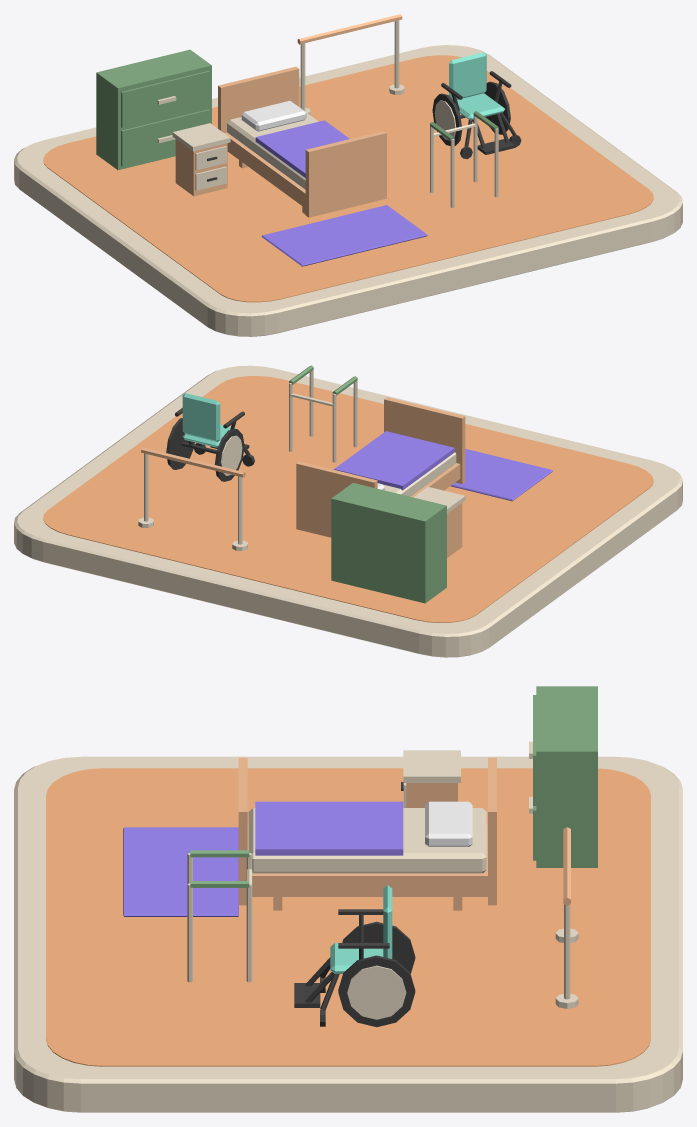
Rendered from room.fbx.
The picture shows the model from 3 angles, top to bottom: view 1: azimuth 30°, elevation 25°; view 2: azimuth 150°, elevation 25°; view 3: azimuth 270°, elevation 25°; orthographic projection. The views are drawn at different scales.
Parts seen in each view (by area): view 1: COM-02 Floor Surface, COM-01 Rounded Base Direct, Cabinet, End board, Rug, End board.001, Blanket, Mattress, Frame, Backrest, Body, Pillow (+8 smaller); view 2: COM-02 Floor Surface, COM-01 Rounded Base Direct, Cabinet, Blanket, End board, End board.001, Rug, Backrest, Mattress, Rear wheel.001, Body, Handrail (+4 smaller); view 3: COM-02 Floor Surface, COM-01 Rounded Base Direct, Cabinet, Rug, Blanket, Mattress, Frame, Push rim.001, Pillow, Top, Rear wheel.001, Rear wheel (+7 smaller).
Part boxes in pixels (box(x1,y1,x2,y2)): COM-02 Floor Surface: box(43, 55, 653, 302); COM-01 Rounded Base Direct: box(14, 45, 682, 336); Cabinet: box(96, 49, 211, 170); End board: box(305, 131, 386, 217); Rug: box(261, 205, 427, 266); End board.001: box(218, 66, 299, 132); Blanket: box(255, 120, 349, 177); Mattress: box(227, 105, 318, 189); Frame: box(224, 132, 305, 208); Backrest: box(449, 52, 486, 99); Body: box(175, 139, 227, 196); Pillow: box(241, 101, 306, 131); COM-02 Floor Surface: box(43, 376, 653, 622); COM-01 Rounded Base Direct: box(14, 365, 682, 657); Cabinet: box(331, 483, 446, 603); Blanket: box(334, 431, 454, 490); End board: box(384, 397, 465, 483); End board.001: box(296, 461, 377, 537); Rug: box(450, 449, 552, 501); Backrest: box(182, 393, 220, 441); Mattress: box(383, 452, 456, 496); Rear wheel.001: box(166, 418, 194, 469); Body: box(447, 503, 462, 557); Handrail: box(141, 447, 245, 477); COM-02 Floor Surface: box(46, 768, 650, 1066); COM-01 Rounded Base Direct: box(14, 756, 682, 1112); Cabinet: box(529, 686, 597, 867); Rug: box(123, 827, 238, 916); Blanket: box(255, 801, 403, 855); Mattress: box(248, 808, 486, 873); Frame: box(247, 824, 487, 896); Push rim.001: box(347, 965, 406, 1019); Pillow: box(425, 801, 472, 846); Top: box(403, 750, 460, 782); Rear wheel.001: box(338, 955, 415, 1027); Rear wheel: box(342, 921, 415, 973).
Bounding box in the file's own units: 600 × 130 × 520.
